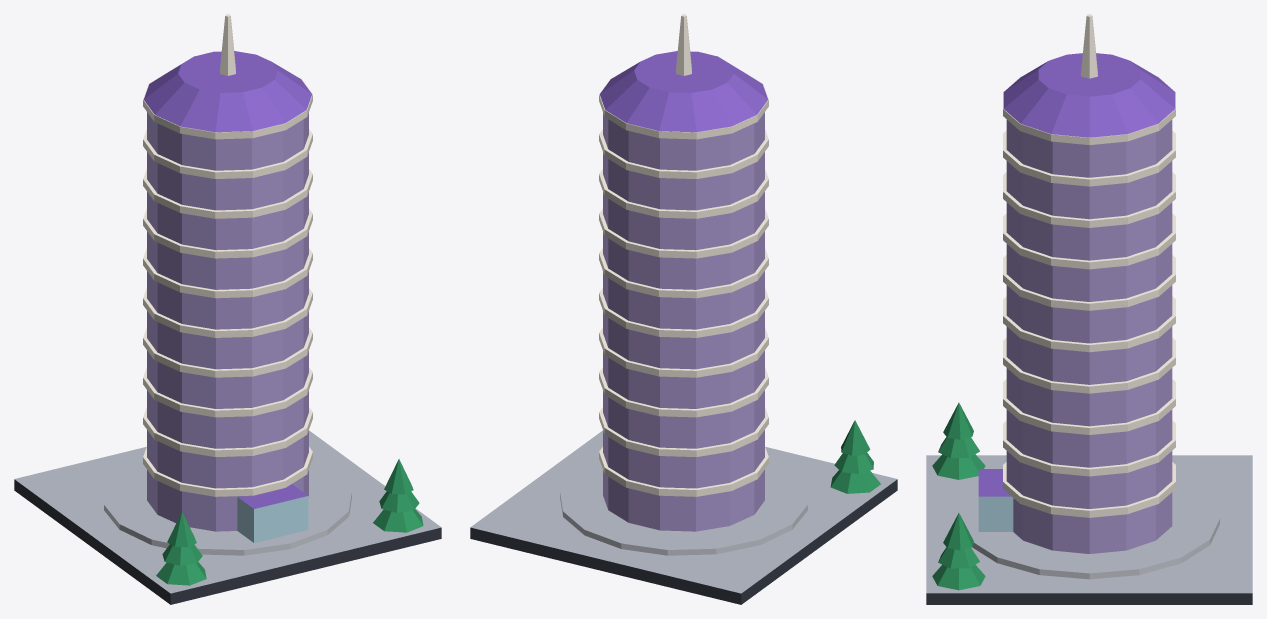
File: office_round.glb
The picture shows the model from 3 angles, left to right: view 1: azimuth 30°, elevation 25°; view 2: azimuth 150°, elevation 25°; view 3: azimuth 270°, elevation 25°; orthographic projection. The views are drawn at different scales.
Visible parts, largest first — view 1: office_round; view 2: office_round; view 3: office_round.
Boxes of the visible parts, <box> form: office_round: <box>14,14,441,604</box>; office_round: <box>470,14,897,604</box>; office_round: <box>926,14,1252,604</box>.
Size of the model in its own units: 1 by 1.76 by 1.
